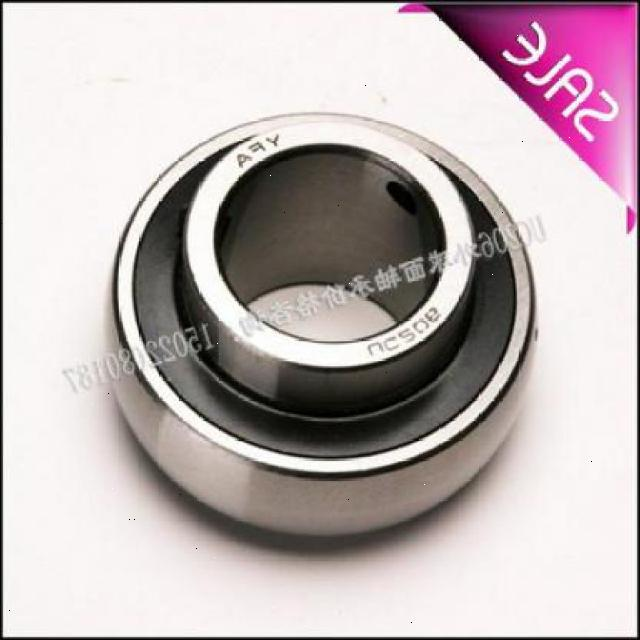Bearing: (100, 109, 538, 542)
